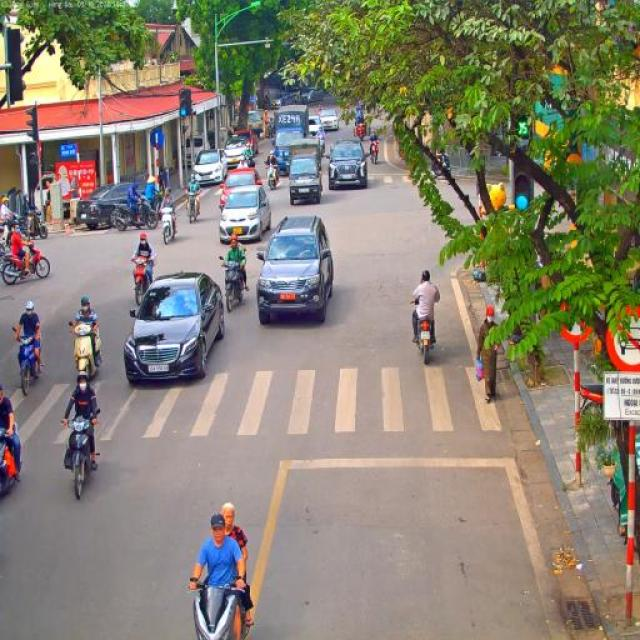car: (123, 270, 225, 385), (256, 214, 334, 325), (76, 181, 148, 231), (218, 184, 273, 244), (326, 139, 368, 191), (219, 168, 262, 210), (192, 149, 227, 186), (222, 134, 252, 171), (318, 108, 340, 132), (308, 119, 322, 146), (277, 92, 297, 107), (296, 86, 314, 102), (233, 130, 253, 144), (306, 89, 325, 103), (270, 94, 285, 110)
motorcycle: (186, 574, 250, 640), (60, 408, 101, 501), (0, 239, 50, 285), (12, 326, 44, 396), (68, 320, 102, 380), (410, 300, 436, 364), (0, 421, 21, 499), (112, 197, 158, 232), (219, 255, 246, 313), (130, 255, 158, 306), (22, 207, 48, 243), (0, 212, 24, 249), (158, 205, 176, 245), (429, 154, 451, 183), (184, 188, 200, 223), (146, 190, 164, 220), (264, 164, 280, 190), (370, 140, 380, 164), (353, 122, 365, 140), (364, 122, 374, 142), (243, 155, 256, 169), (318, 135, 327, 155)
truck: (271, 104, 310, 175), (288, 137, 322, 205), (258, 76, 278, 112), (246, 110, 263, 138)
